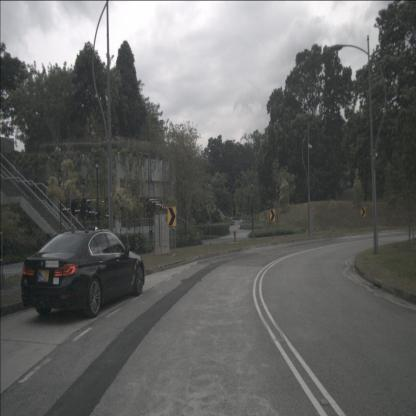vehicle-car: (21, 231, 145, 318)
